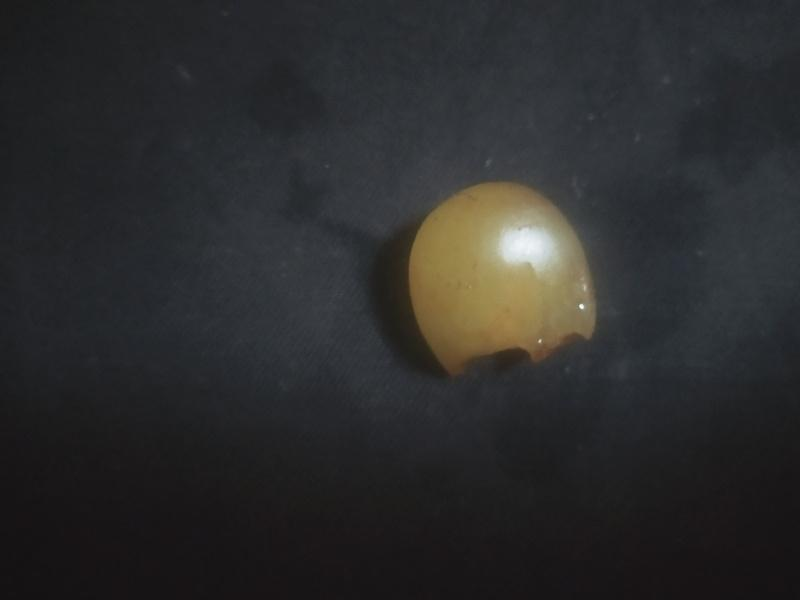Grape Overripe: (403, 176, 601, 383)
